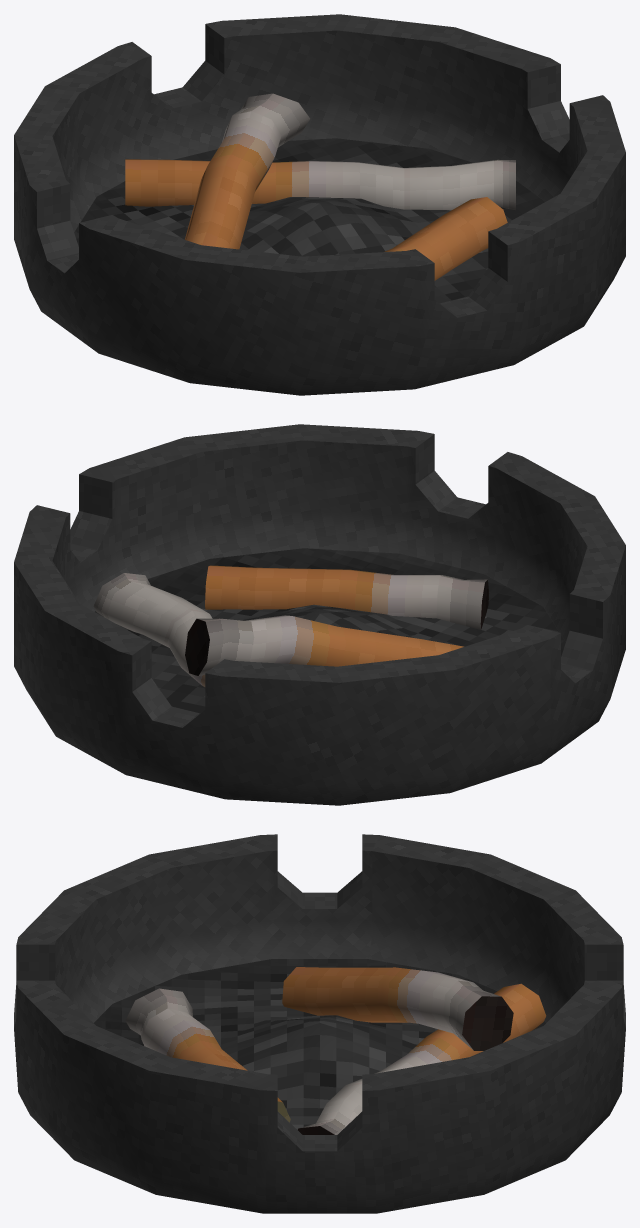
The model's file is ashtray_1.glb.
The picture shows the model from 3 angles, top to bottom: view 1: azimuth 30°, elevation 25°; view 2: azimuth 150°, elevation 25°; view 3: azimuth 270°, elevation 25°; orthographic projection.
Parts seen in each view (by area): view 1: ashtray_1; view 2: ashtray_1; view 3: ashtray_1.
Part boxes in pixels (x1,y1,x2,y2): ashtray_1: (14, 14, 625, 395); ashtray_1: (14, 424, 625, 805); ashtray_1: (14, 834, 625, 1213).
Bounding box in the file's own units: 0.1432 × 0.036 × 0.1432.
3 materials, 3 textured.
